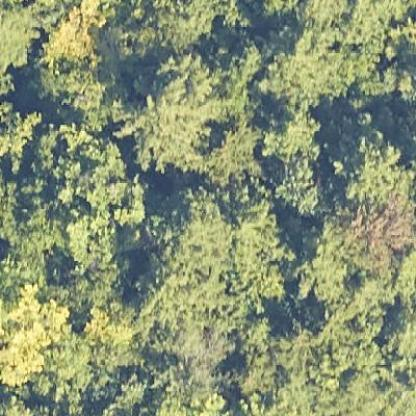tree-top: (137, 188, 296, 322), (0, 128, 137, 253), (115, 61, 220, 169), (255, 30, 371, 112), (0, 286, 90, 386), (161, 320, 240, 396), (331, 124, 415, 193), (32, 0, 110, 74), (77, 294, 147, 368), (343, 189, 414, 260), (294, 226, 348, 304), (272, 155, 330, 225), (257, 109, 325, 157), (0, 4, 40, 77)
